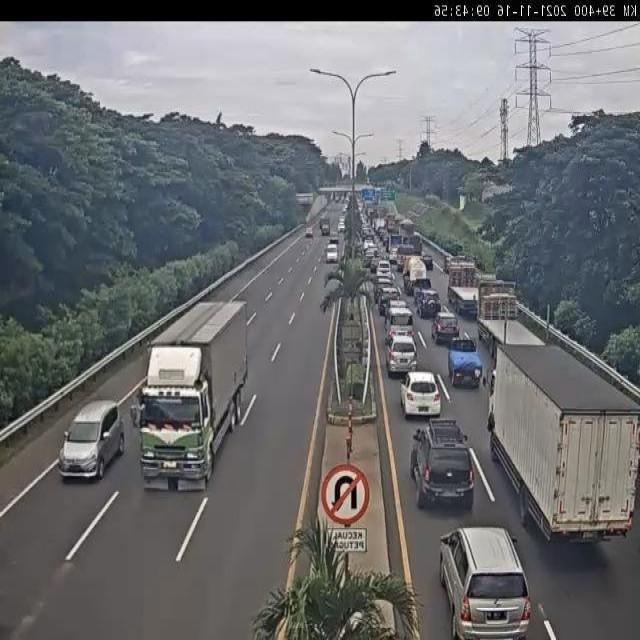Car: (438, 525, 531, 639), (410, 417, 476, 509), (58, 400, 124, 481), (400, 371, 440, 418), (385, 332, 417, 378), (431, 311, 460, 344), (414, 288, 441, 318), (386, 304, 413, 334), (378, 286, 400, 316), (377, 260, 391, 278), (326, 244, 338, 263), (389, 248, 400, 267), (422, 254, 434, 270), (338, 217, 346, 234), (306, 227, 314, 238)
Truck: (487, 337, 639, 544), (131, 299, 247, 489), (447, 336, 484, 387), (478, 279, 517, 325), (402, 256, 428, 296), (319, 218, 330, 235)
